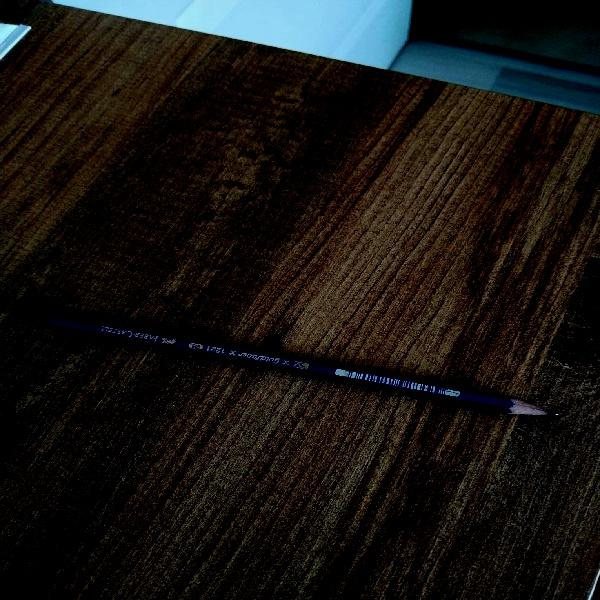pencil: (49, 297, 565, 435)
